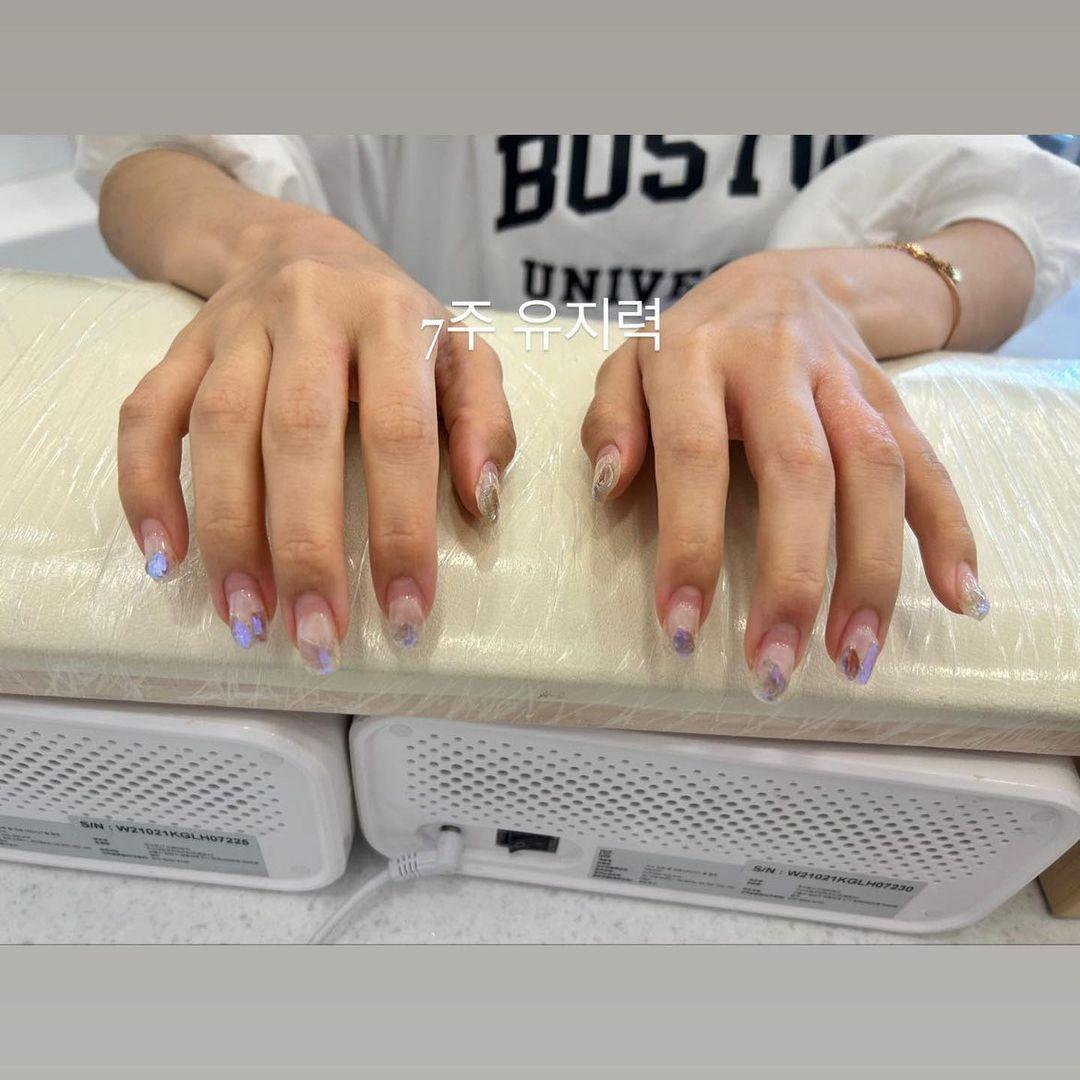nail: (752, 622, 800, 703), (293, 591, 340, 673), (222, 571, 267, 648), (836, 606, 880, 683), (385, 575, 425, 647), (665, 583, 702, 654), (953, 560, 989, 619), (138, 517, 172, 579), (590, 442, 620, 502), (474, 459, 500, 524)
